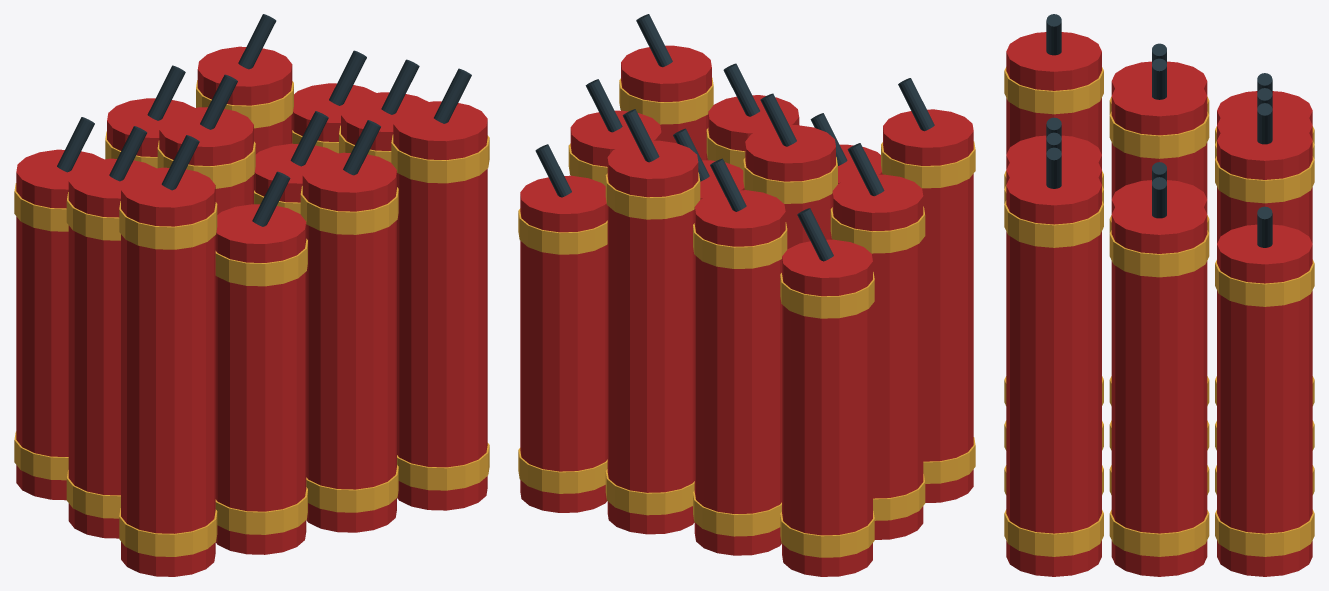
File: scendance-plan-cn-firecracker.glb
The picture shows the model from 3 angles, left to right: view 1: azimuth 30°, elevation 25°; view 2: azimuth 150°, elevation 25°; view 3: azimuth 270°, elevation 25°; orthographic projection. The views are drawn at different scales.
Size of the model in its own units: 0.217 by 0.2411 by 0.162.
